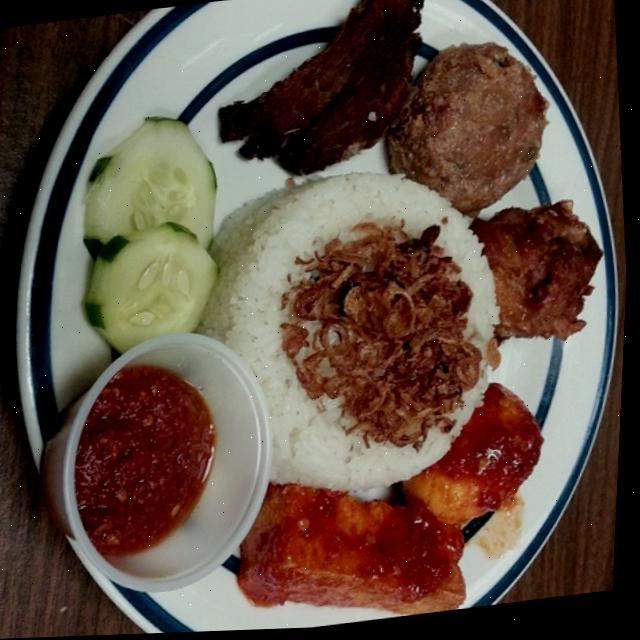米饭主食: (4, 0, 640, 639)
